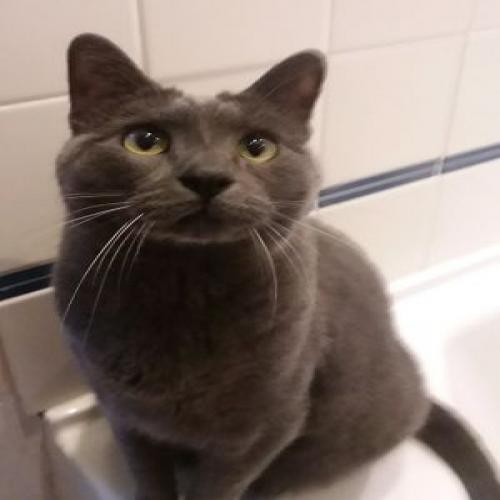rblue: (46, 28, 366, 269)
